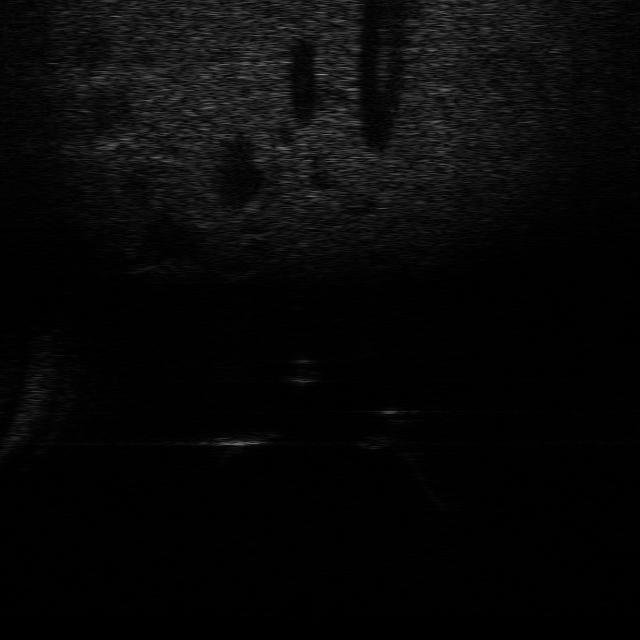ball: (275, 350, 327, 391)
square cage: (192, 424, 282, 459)
tyre: (354, 401, 408, 451)
